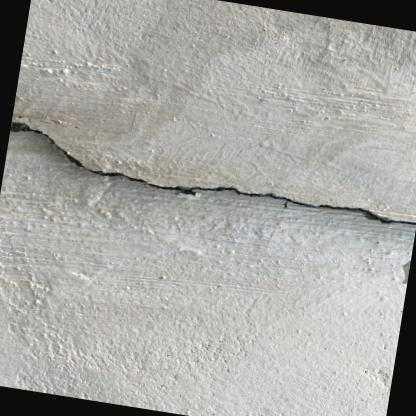crack: (13, 116, 416, 226)
